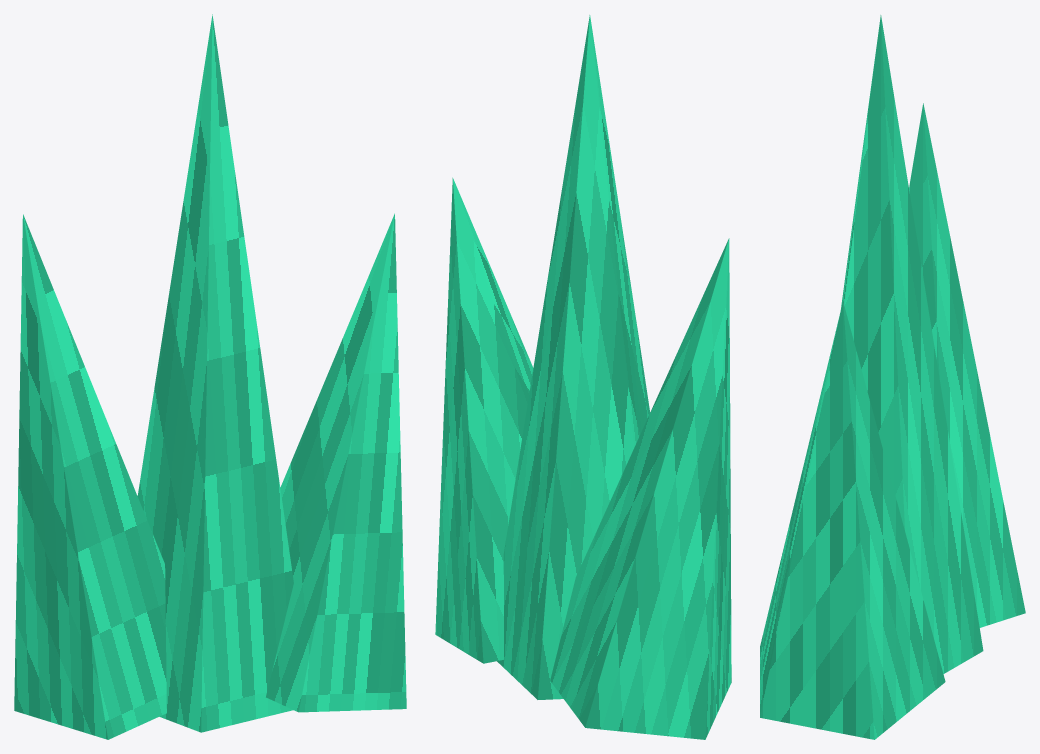
Rendered from crystal_28.glb.
The picture shows the model from 3 angles, left to right: view 1: azimuth 30°, elevation 25°; view 2: azimuth 150°, elevation 25°; view 3: azimuth 270°, elevation 25°; orthographic projection. The views are drawn at different scales.
Visible parts, largest first — view 1: Jade.001, Jade, Jade.002; view 2: Jade, Jade.001, Jade.002; view 3: Jade.002, Jade.001, Jade.
Boxes of the visible parts, x1,y1,x2,y2 form: Jade.001: (137, 14, 293, 732); Jade: (14, 214, 166, 739); Jade.002: (266, 213, 406, 712); Jade: (550, 238, 731, 739); Jade.001: (497, 15, 649, 699); Jade.002: (435, 177, 533, 663); Jade.002: (760, 301, 945, 739); Jade.001: (841, 15, 983, 673); Jade: (909, 103, 1025, 627).
Bounding box in the file's own units: 0.7761 × 1.54 × 0.5702.
1 material, 1 textured.
